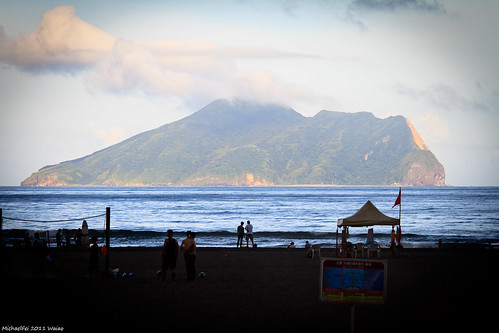turtleIsland: (24, 88, 447, 193)
